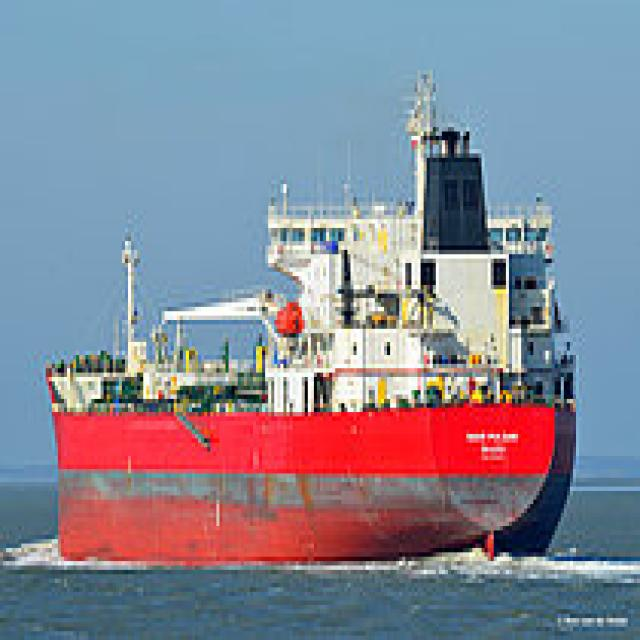Tanker: (40, 66, 576, 561)
